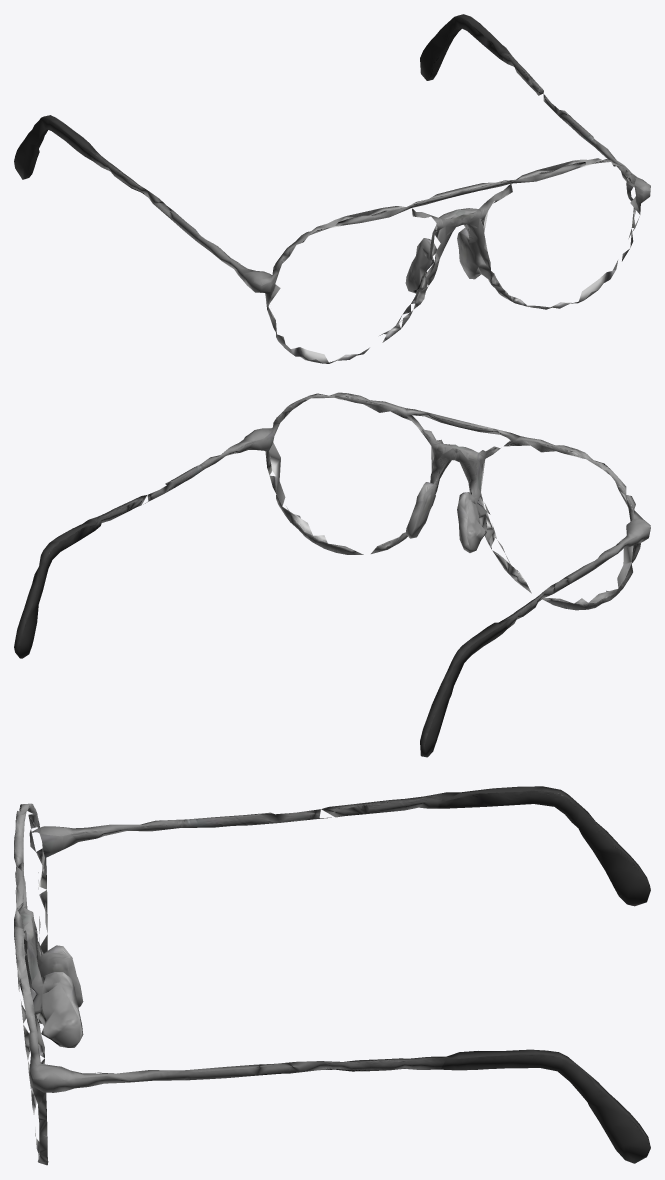
Rendered from head_accessory__0_036-optimized.glb.
3 renders of one model, top to bottom at view 1: azimuth 30°, elevation 25°; view 2: azimuth 150°, elevation 25°; view 3: azimuth 270°, elevation 25°, orthographic. The views are drawn at different scales.
Parts seen in each view (by area): view 1: geometry_0_036; view 2: geometry_0_036; view 3: geometry_0_036.
Part boxes in pixels (left/top/right/bottom): geometry_0_036: left=14, top=14, right=650, bottom=363; geometry_0_036: left=14, top=392, right=650, bottom=757; geometry_0_036: left=14, top=786, right=650, bottom=1165.
Size of the model in its own units: 0.7333 by 0.2507 by 0.7358.
1 material, 1 textured.
